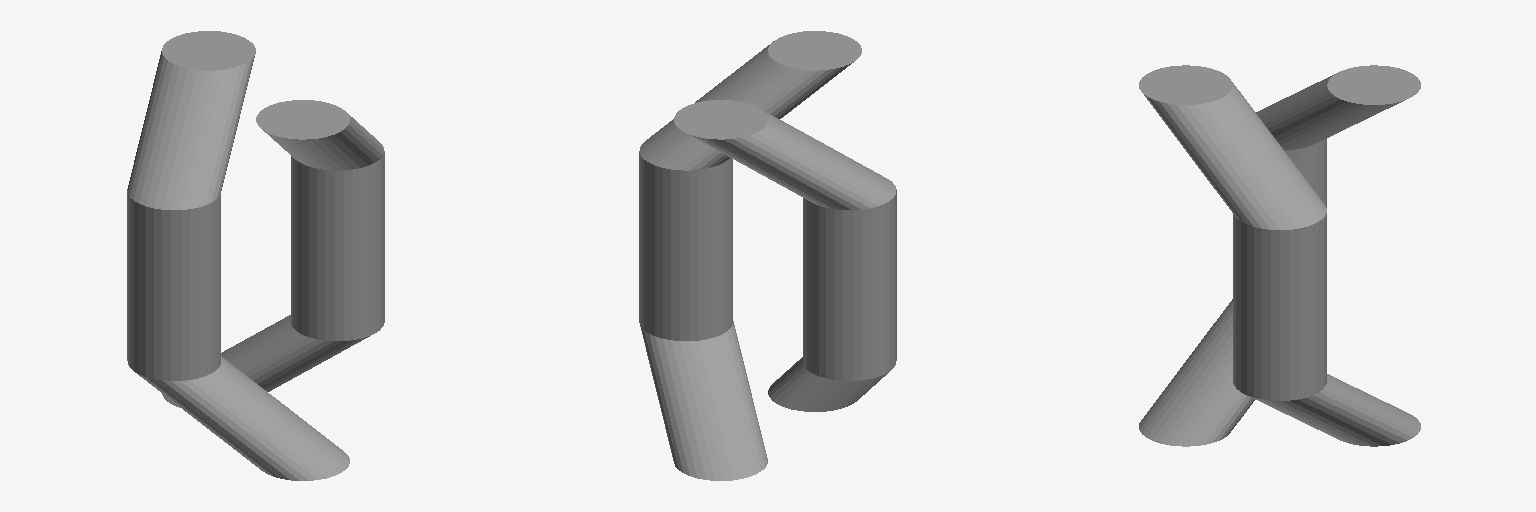
Rendered from twistB.obj.
3 renders of one model, left to right at view 1: azimuth 30°, elevation 25°; view 2: azimuth 150°, elevation 25°; view 3: azimuth 270°, elevation 25°, orthographic.
Visible parts, largest first — view 1: Shape_IndexedFaceSet, Shape_IndexedFaceSet.001, Shape_IndexedFaceSet.003_Shape_IndexedFaceSet.005, Shape_IndexedFaceSet.002_Shape_IndexedFaceSet.004; view 2: Shape_IndexedFaceSet.002_Shape_IndexedFaceSet.004, Shape_IndexedFaceSet, Shape_IndexedFaceSet.003_Shape_IndexedFaceSet.005, Shape_IndexedFaceSet.001; view 3: Shape_IndexedFaceSet.003_Shape_IndexedFaceSet.005, Shape_IndexedFaceSet.002_Shape_IndexedFaceSet.004, Shape_IndexedFaceSet, Shape_IndexedFaceSet.001.
Boxes of the visible parts, box(x1,y1,x2,y2) form: Shape_IndexedFaceSet: box(127, 31, 255, 295); Shape_IndexedFaceSet.001: box(127, 276, 349, 480); Shape_IndexedFaceSet.003_Shape_IndexedFaceSet.005: box(256, 100, 384, 255); Shape_IndexedFaceSet.002_Shape_IndexedFaceSet.004: box(162, 238, 384, 407); Shape_IndexedFaceSet.002_Shape_IndexedFaceSet.004: box(639, 238, 767, 480); Shape_IndexedFaceSet: box(674, 100, 896, 295); Shape_IndexedFaceSet.003_Shape_IndexedFaceSet.005: box(639, 31, 861, 255); Shape_IndexedFaceSet.001: box(768, 276, 896, 411); Shape_IndexedFaceSet.003_Shape_IndexedFaceSet.005: box(1139, 65, 1326, 315); Shape_IndexedFaceSet.002_Shape_IndexedFaceSet.004: box(1233, 298, 1420, 446); Shape_IndexedFaceSet: box(1256, 65, 1420, 207); Shape_IndexedFaceSet.001: box(1139, 299, 1254, 446).
Size of the model in its own units: 60 by 80 by 60.